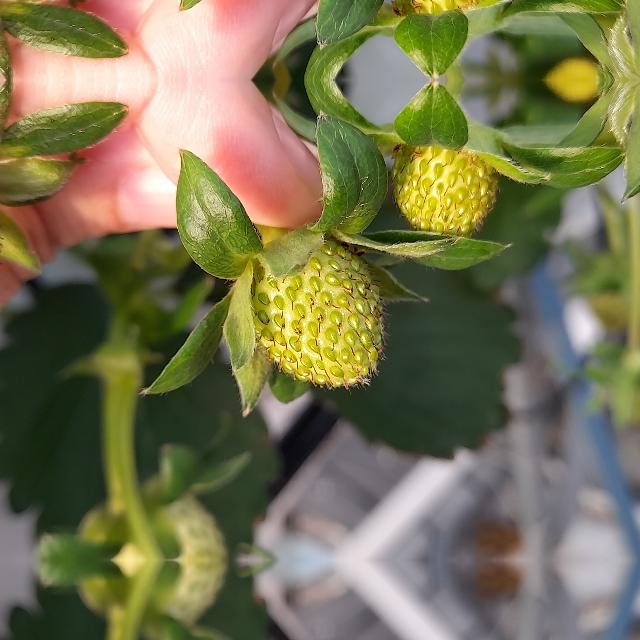Health_25: (255, 242, 391, 394), (390, 128, 498, 236), (390, 0, 498, 32)
